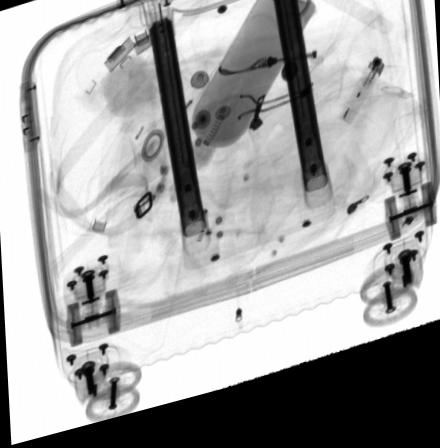Lighter: (337, 76, 385, 143)
